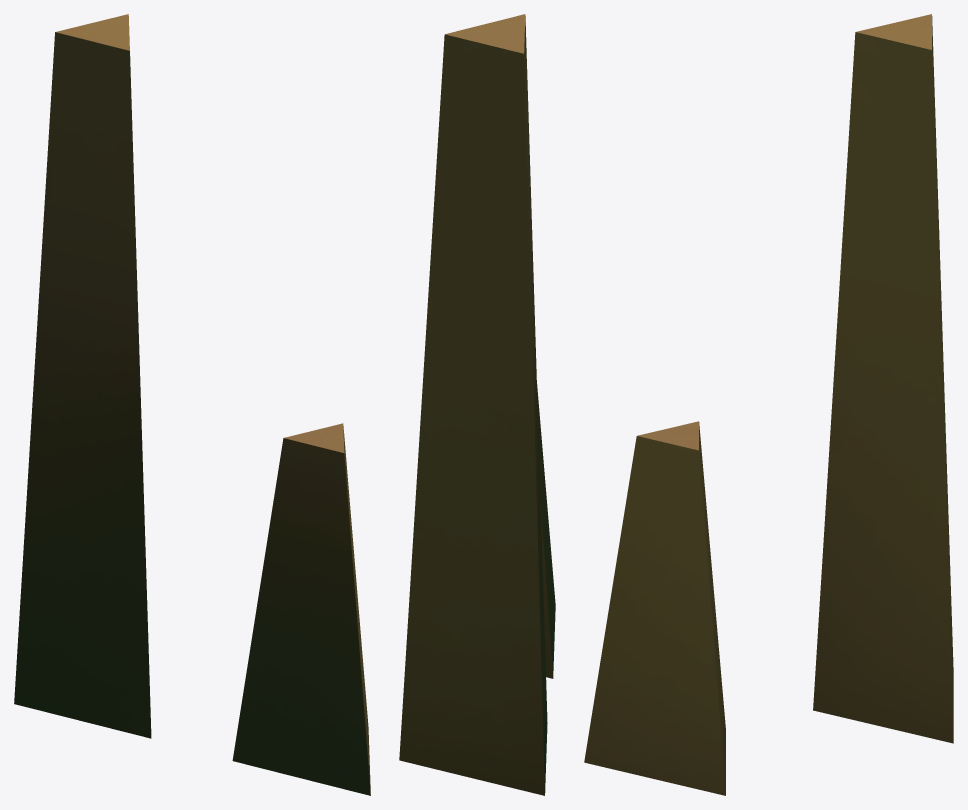
File: Sce_worldmap_tree_b09.FBX
3 views of the same model, side by side, from view 1: azimuth 30°, elevation 25°; view 2: azimuth 150°, elevation 25°; view 3: azimuth 270°, elevation 25° (orthographic). The views are drawn at different scales.
Visible parts, largest first — view 1: Sce_worldmap_tree_b09; view 2: Sce_worldmap_tree_b09; view 3: Sce_worldmap_tree_b09.
Part boxes in pixels (x1=…): Sce_worldmap_tree_b09: x1=14, y1=14, x2=370, y2=795; Sce_worldmap_tree_b09: x1=399, y1=14, x2=555, y2=795; Sce_worldmap_tree_b09: x1=584, y1=14, x2=953, y2=795.
Size of the model in its own units: 26.03 by 69.29 by 34.22.
